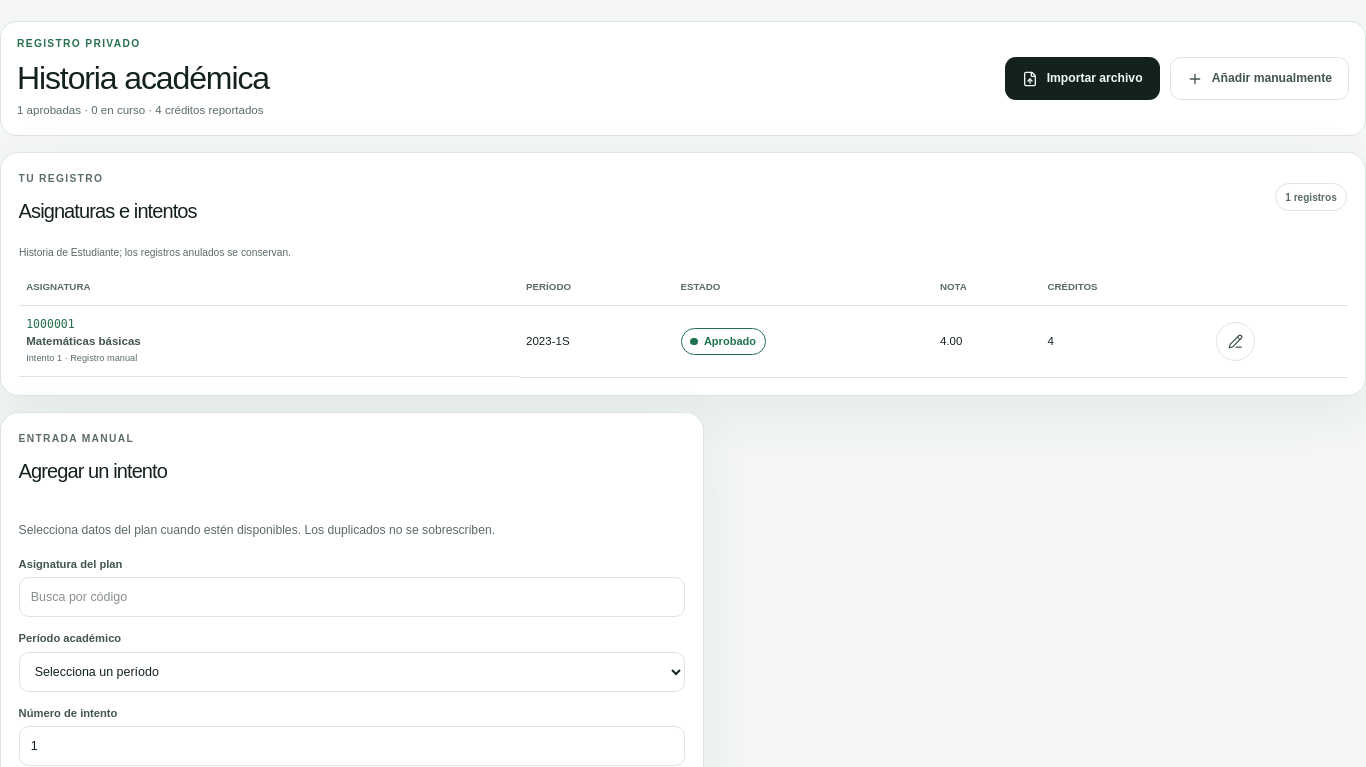
it: history workspaces › rejects a manual course code outside the current plan
The image size is (1366, 767).
Type "NO-EXISTE" into the field labelled "Asignatura del plan" at (352, 597), box [19,577,685,617]
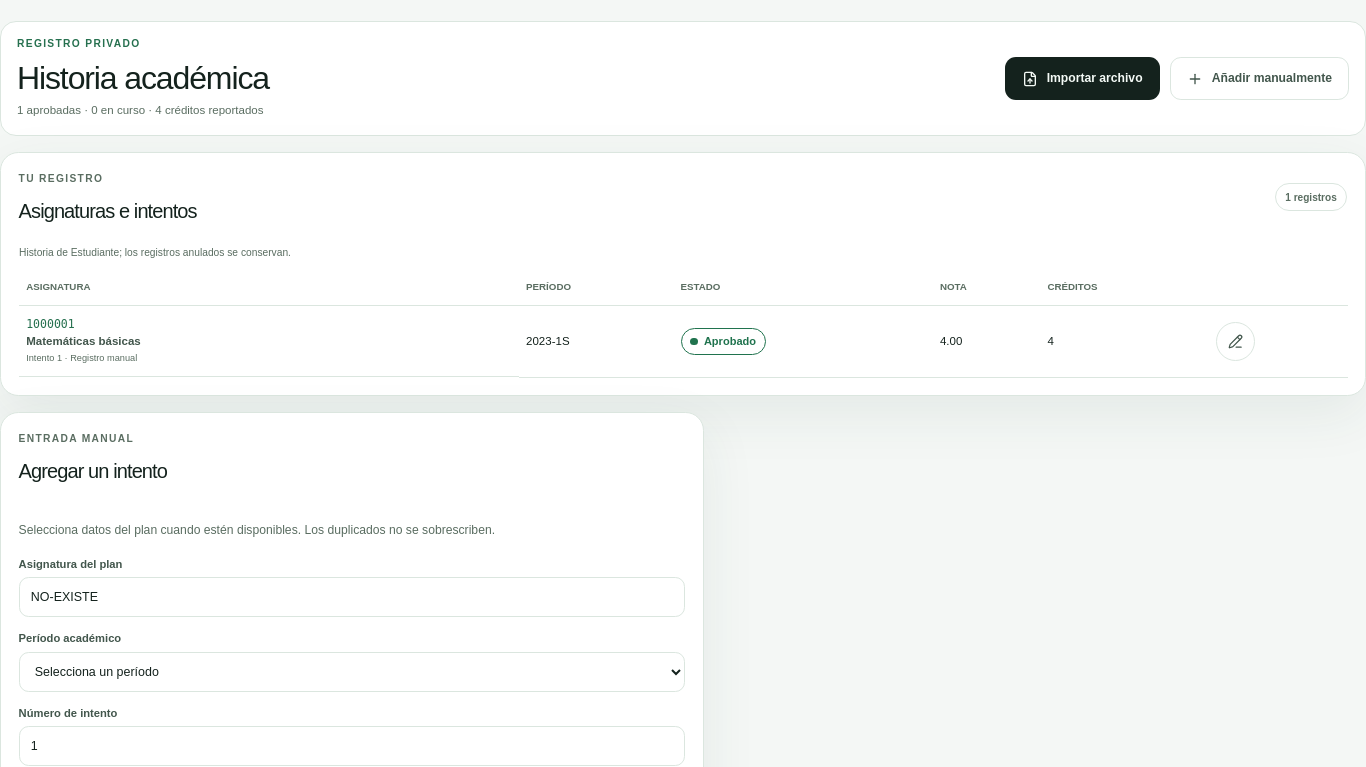
Select "2026-2S" in the dropdown labelled "Período académico" at (352, 672), box [19,652,685,692]
(page scrolled)
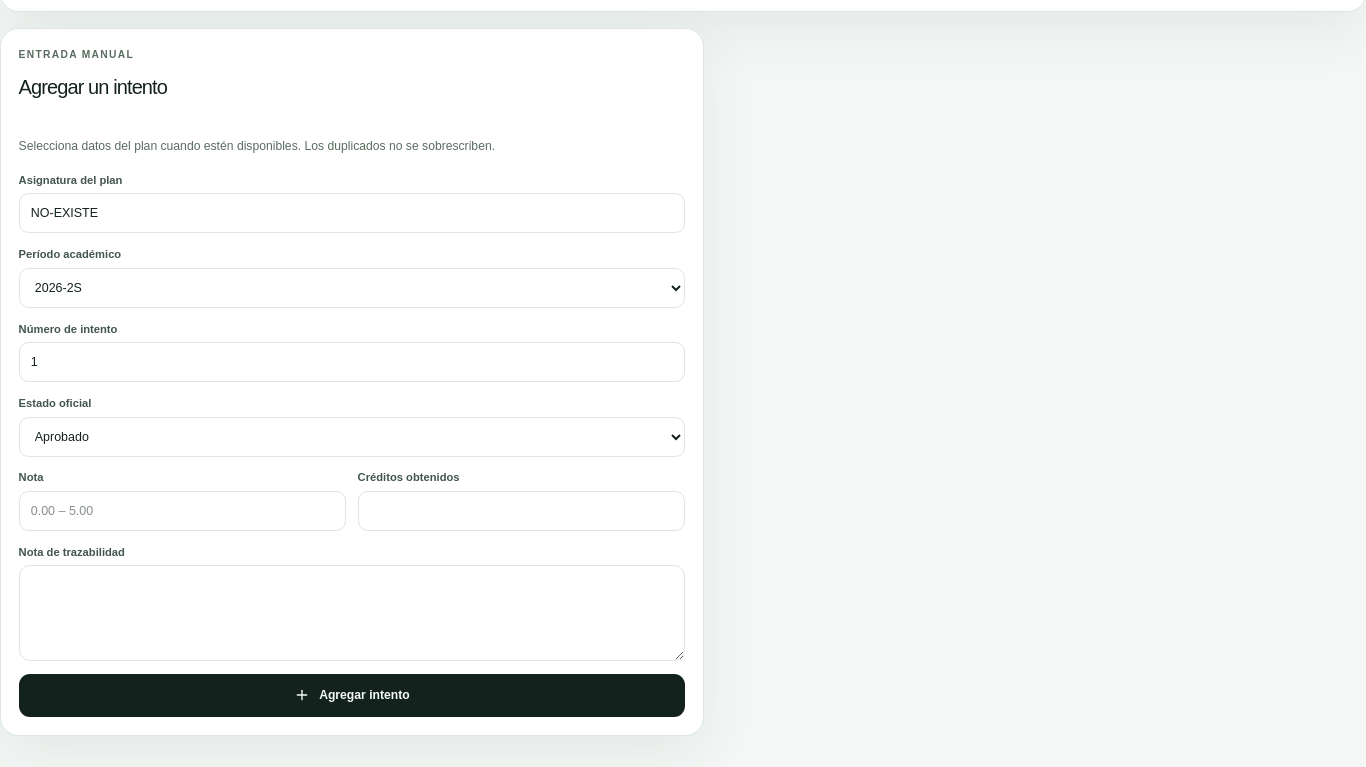
Click the button "Agregar intento" at (352, 695), box [19,674,685,717]
(page scrolled)
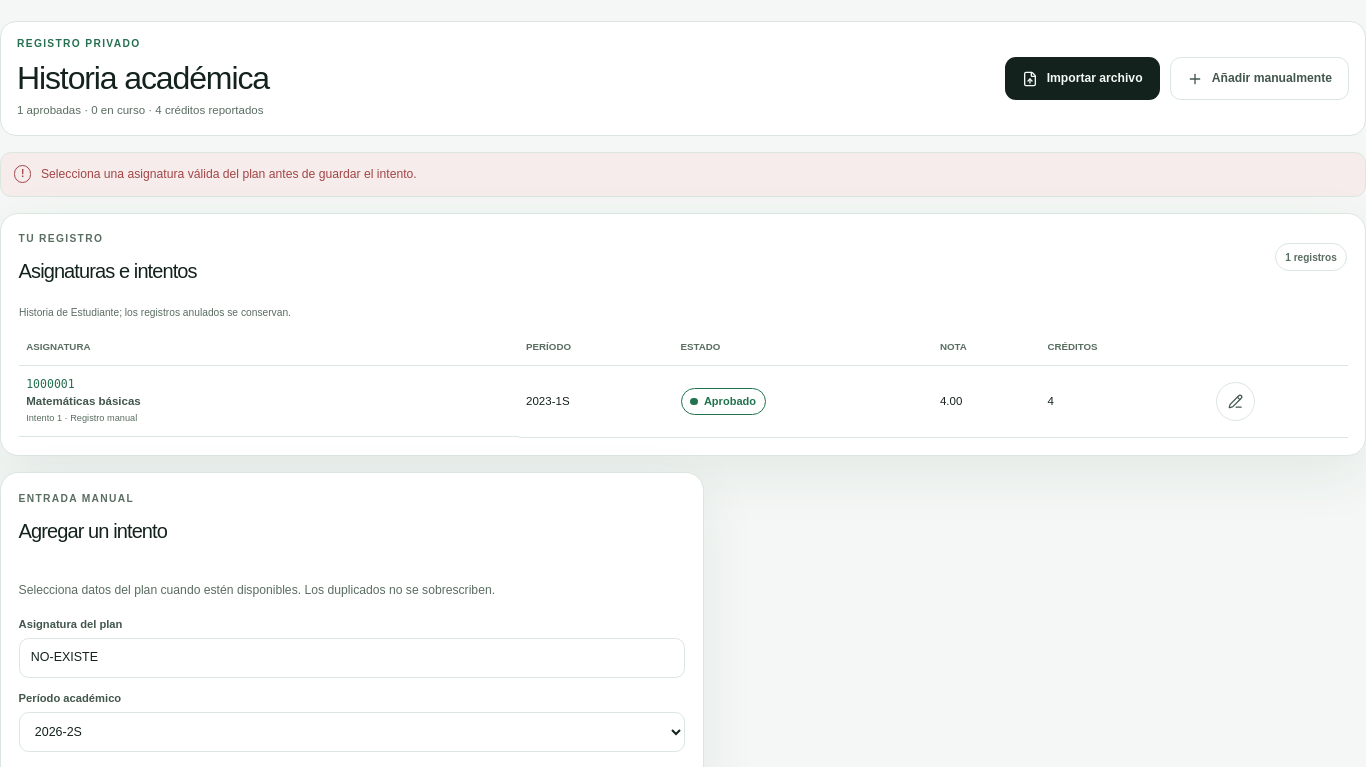
Expected: the message shows "Selecciona una asignatura válida del plan", [41,167,417,181]
